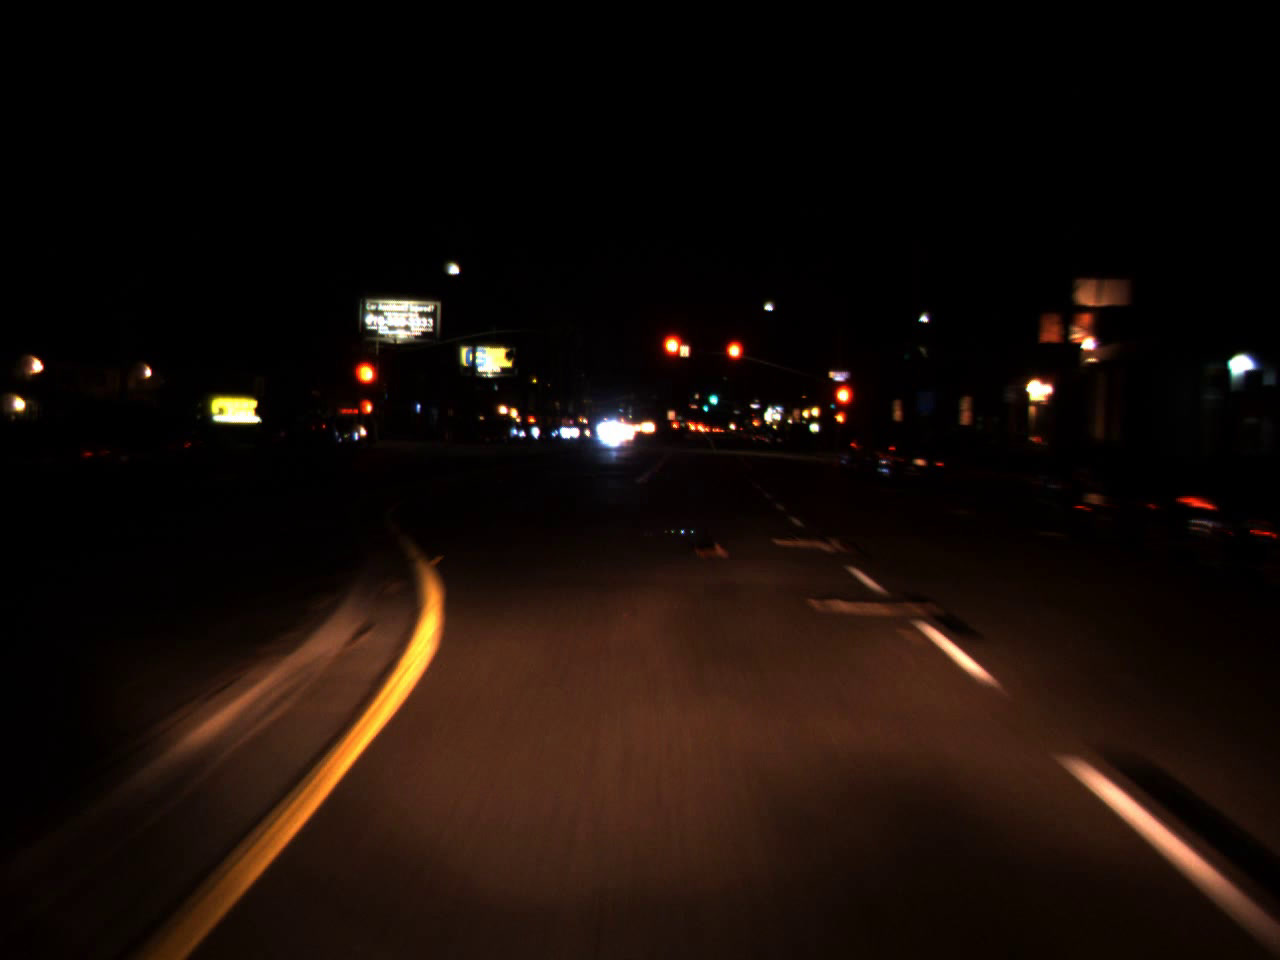go: (706, 387, 718, 405), (702, 398, 709, 413)
stop: (351, 359, 381, 410), (659, 331, 686, 379), (833, 381, 855, 429), (723, 339, 745, 379)
